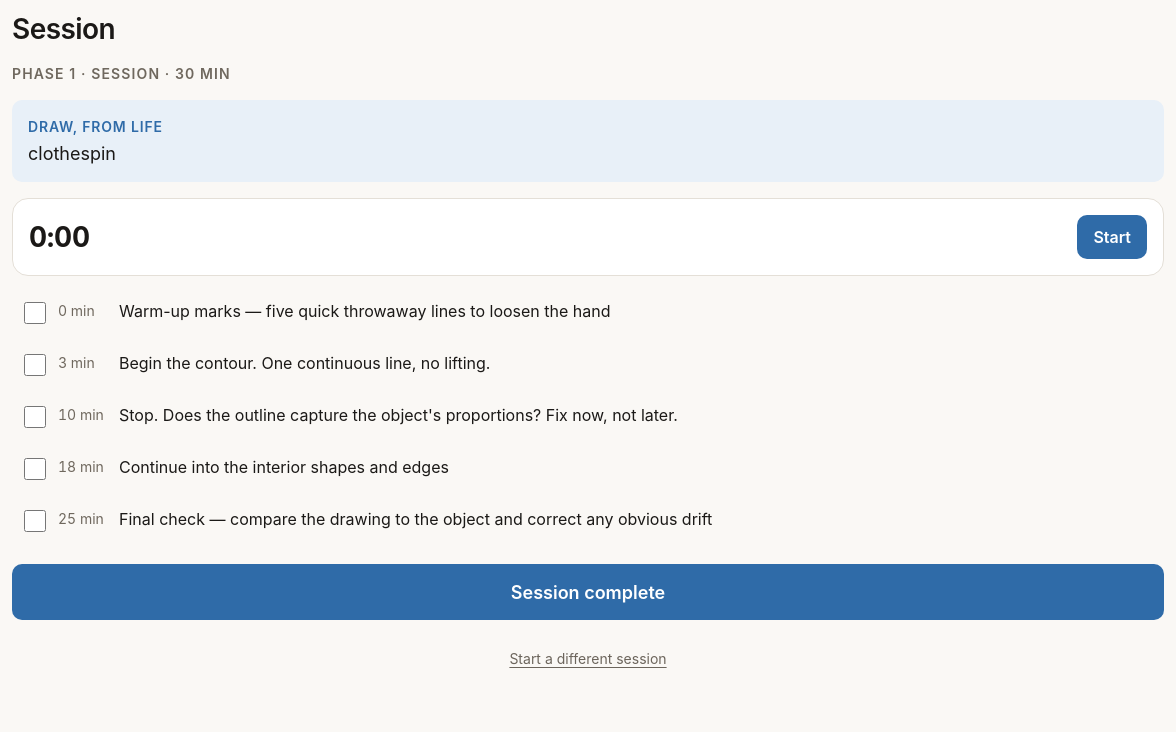
the session runner › Pause freezes the timer and swaps in Resume
Click the button "Start".
click(1112, 237)  # box [1077,215,1147,259]
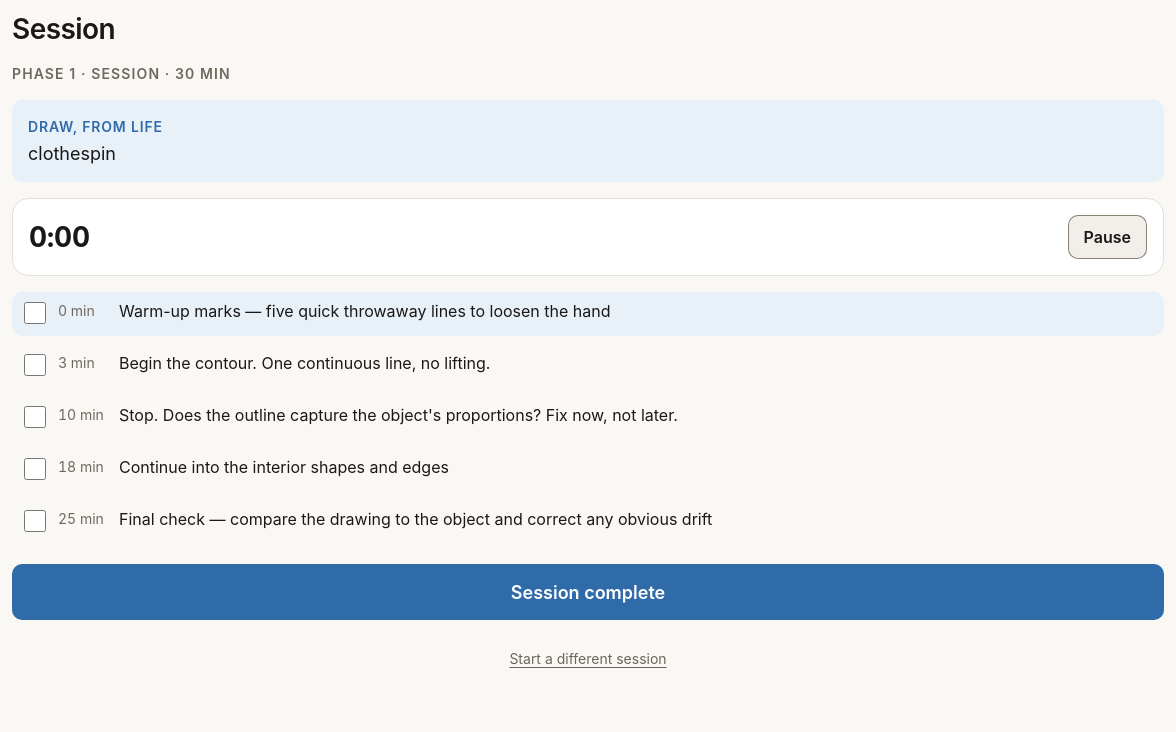
Click the button "Pause".
click(1107, 237)  # box [1068,215,1147,259]
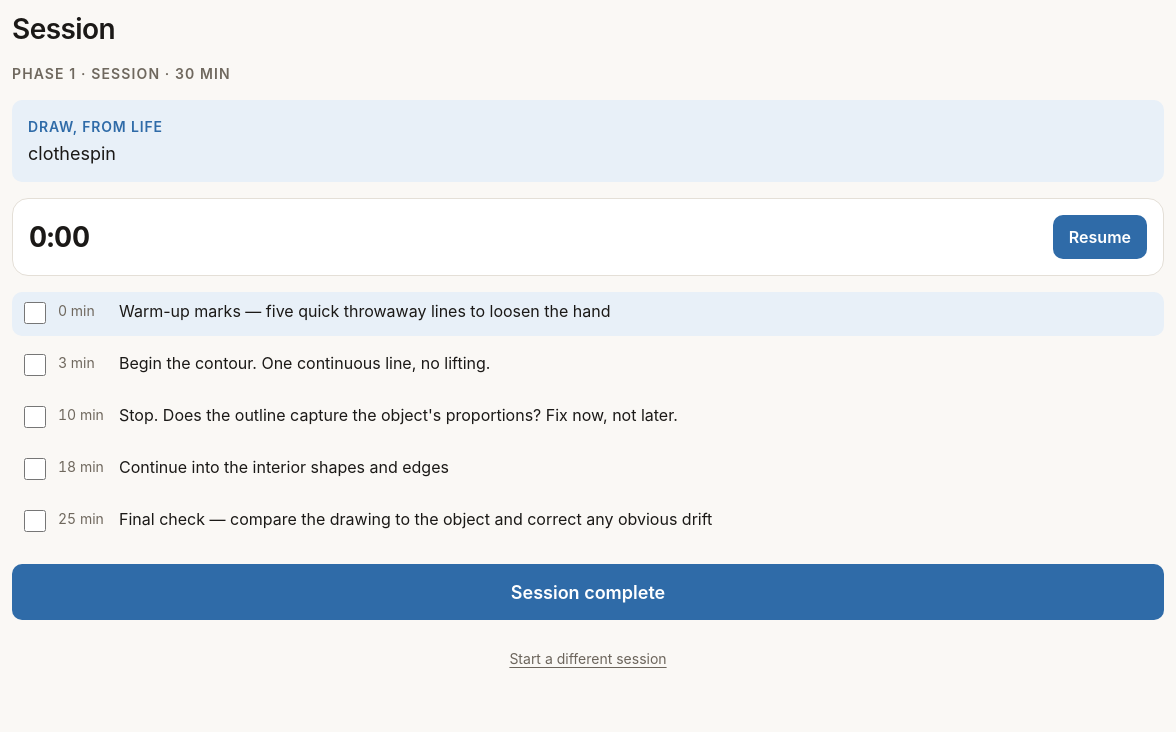
Check: the button "Resume" is shown, box [1053,215,1147,259]
